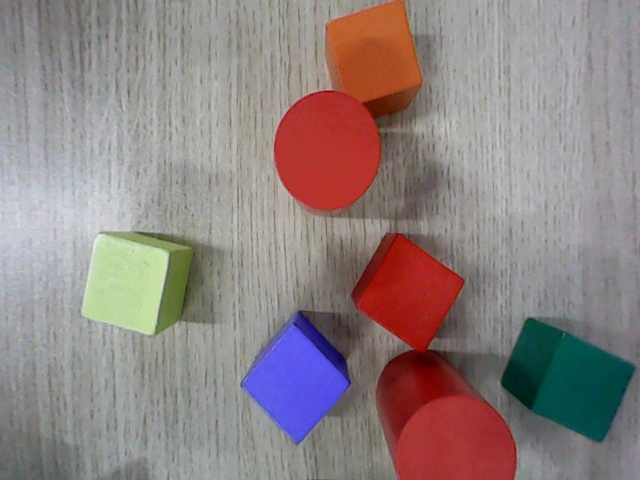upside of cylinder: (274, 90, 381, 212), (394, 397, 516, 479)
upside of small cube: (239, 324, 352, 447), (355, 233, 465, 357), (529, 331, 636, 444), (325, 0, 422, 101), (79, 233, 172, 338)
